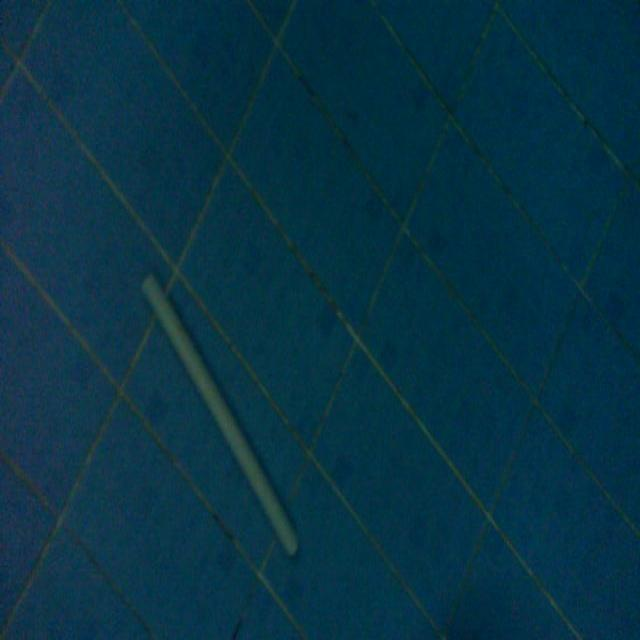Cube: (138, 267, 300, 560)
